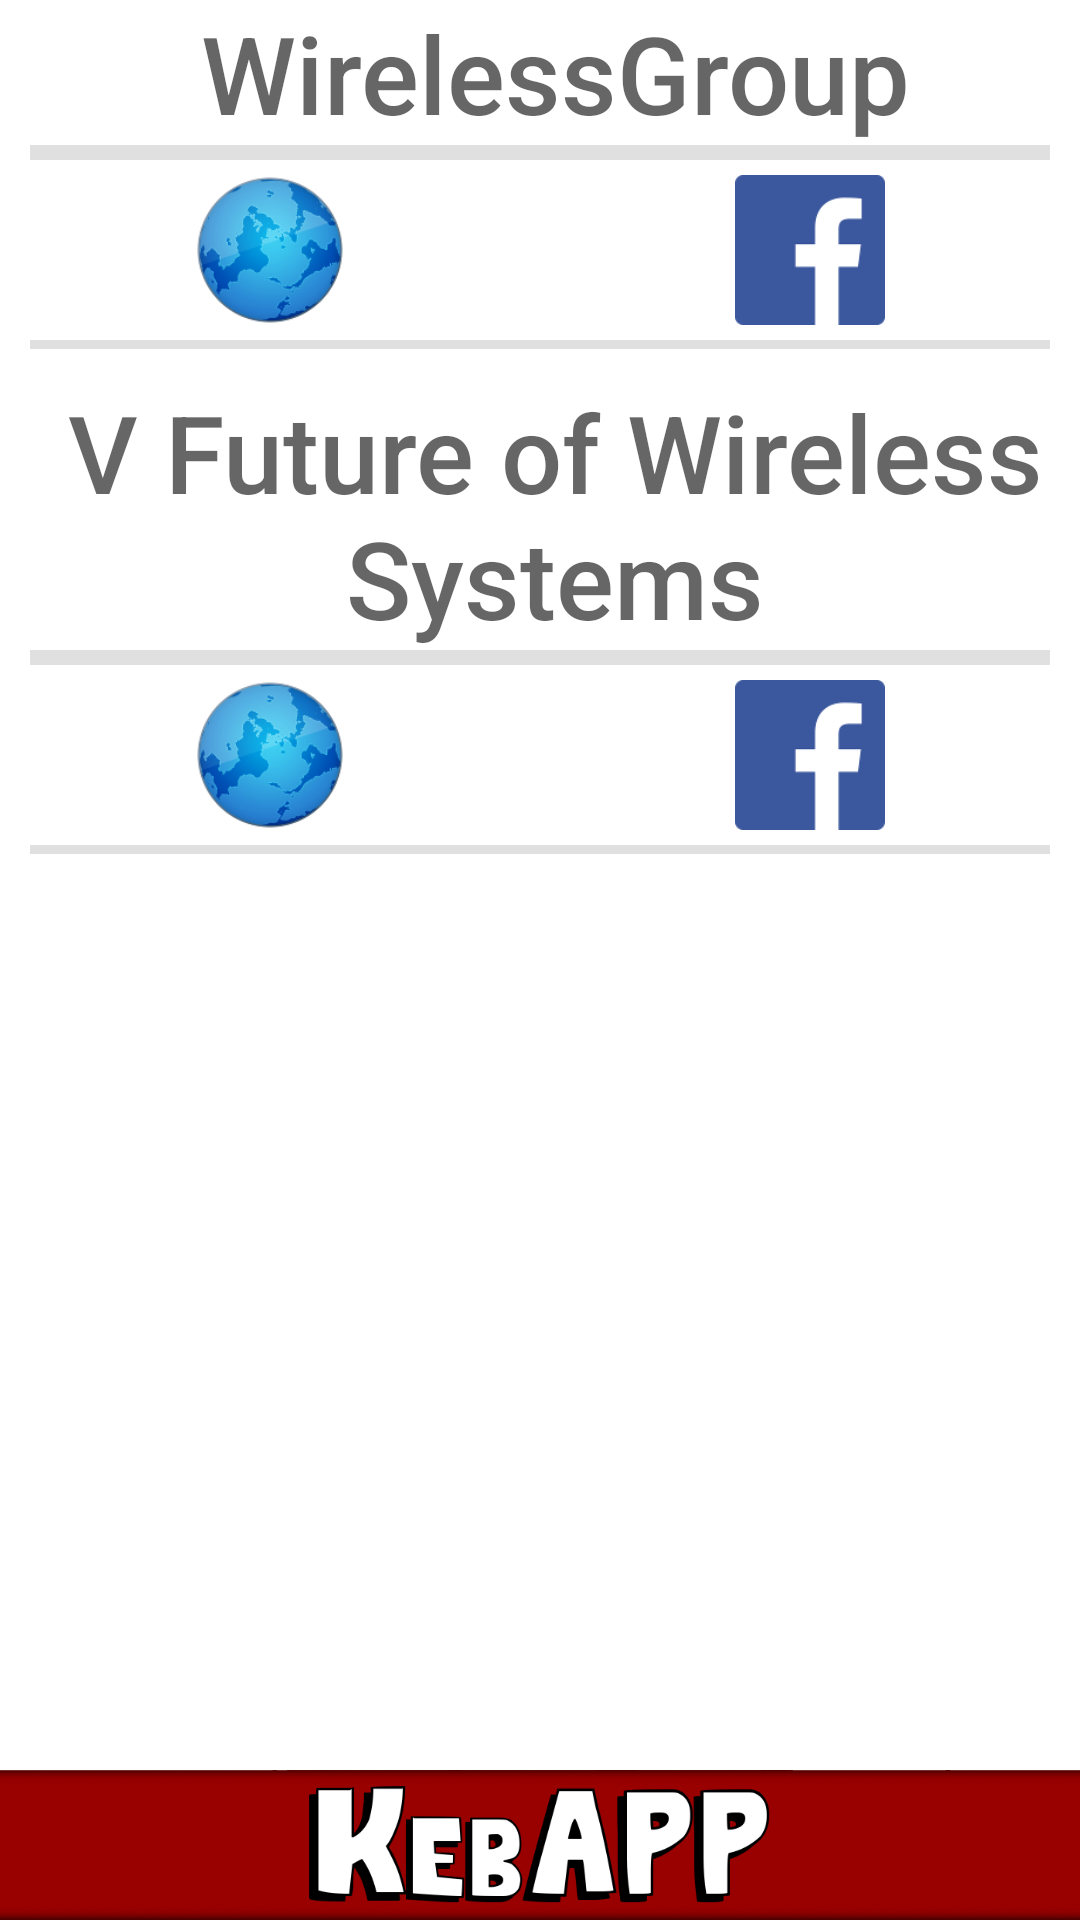

Icons on this 1080w x 1920h Android screen, each with the point to tap as (x=x, y=y):
internet: (x=270, y=250), (x=270, y=755)
